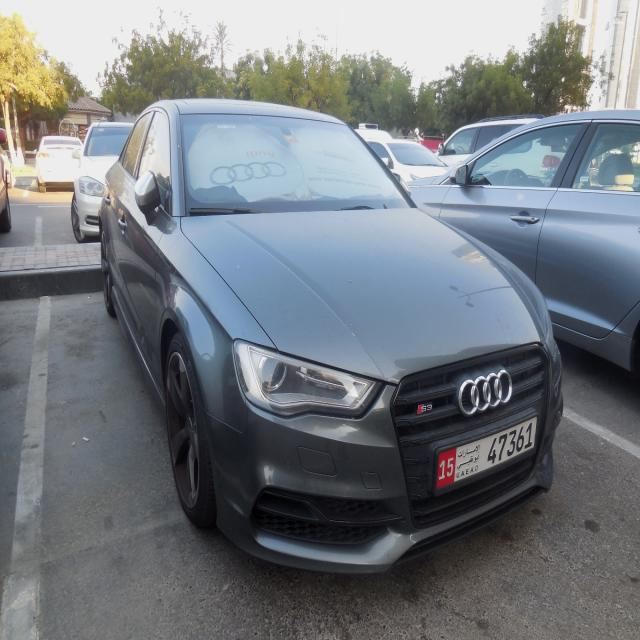License-plate: (437, 418, 538, 497)
